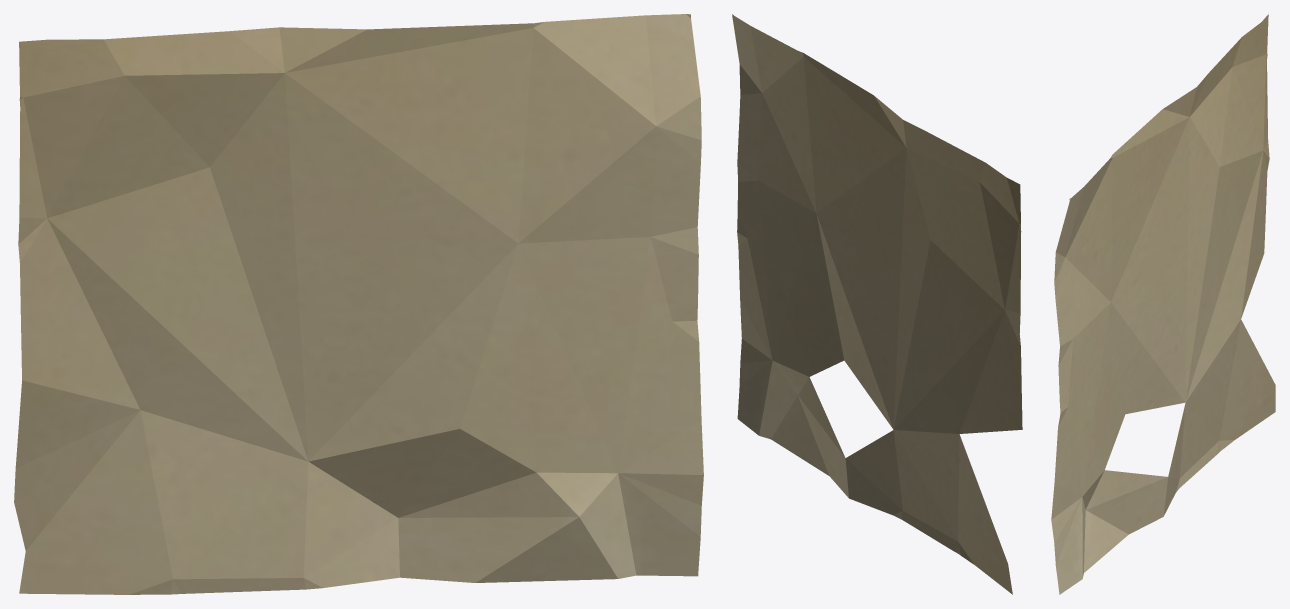
3 renders of one model, left to right at view 1: azimuth 30°, elevation 25°; view 2: azimuth 150°, elevation 25°; view 3: azimuth 270°, elevation 25°, orthographic. The views are drawn at different scales.
Bounding box in the file's own units: 0.8374 × 0.8374 × 0.4299.
Materials: 3 (3 with a texture image).
